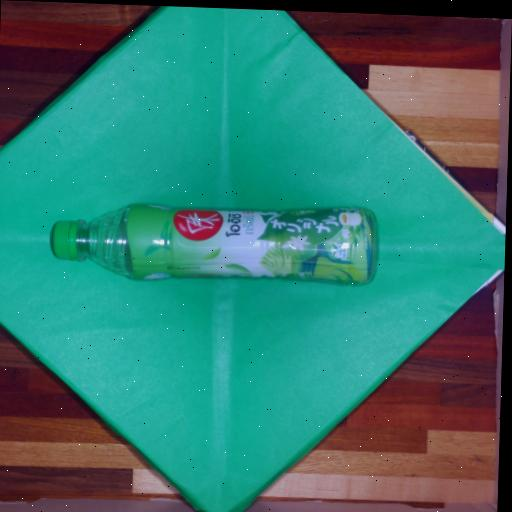bottle: (52, 205, 374, 284)
